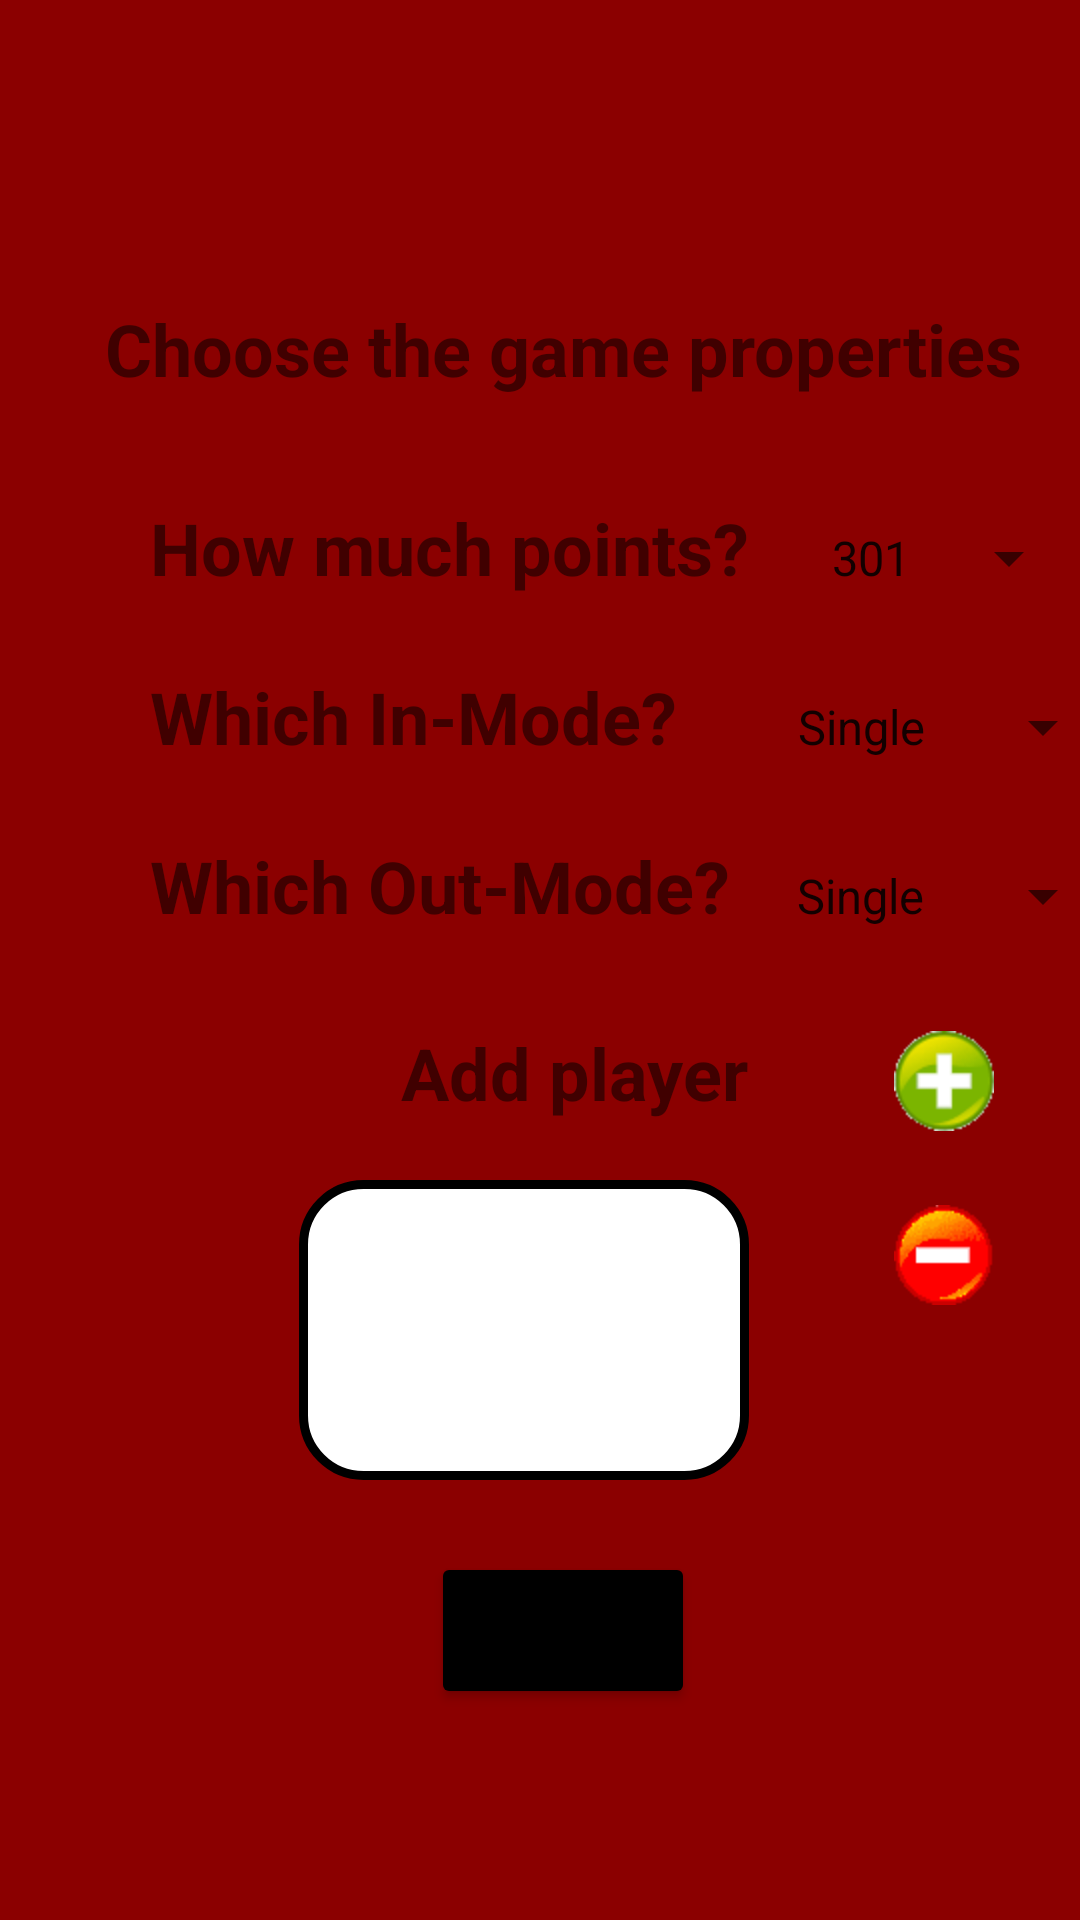

Named icons in this screenshot (1080 × 1920) and their centers, (x,y):
minus: (943,1255)
plus: (944,1081)
